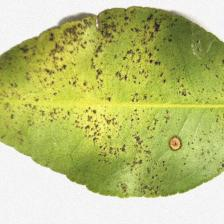canker: (43, 31, 183, 165)
